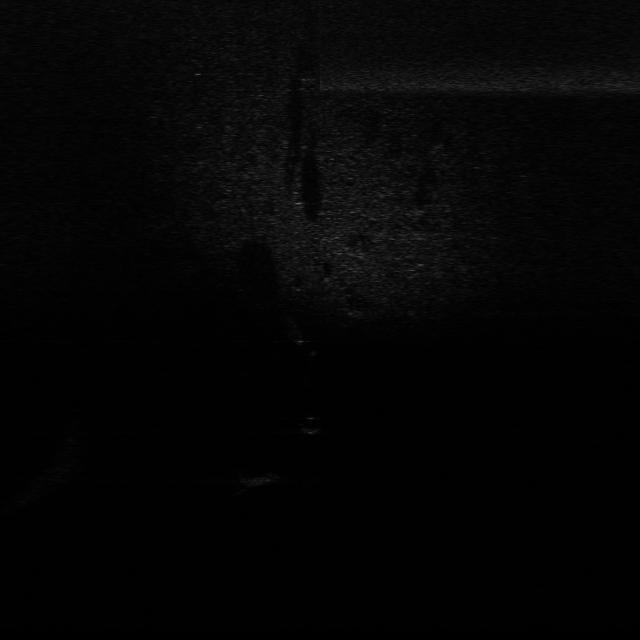ball: (297, 414, 327, 435)
circle cage: (232, 464, 284, 489)
human body: (288, 316, 328, 367)
